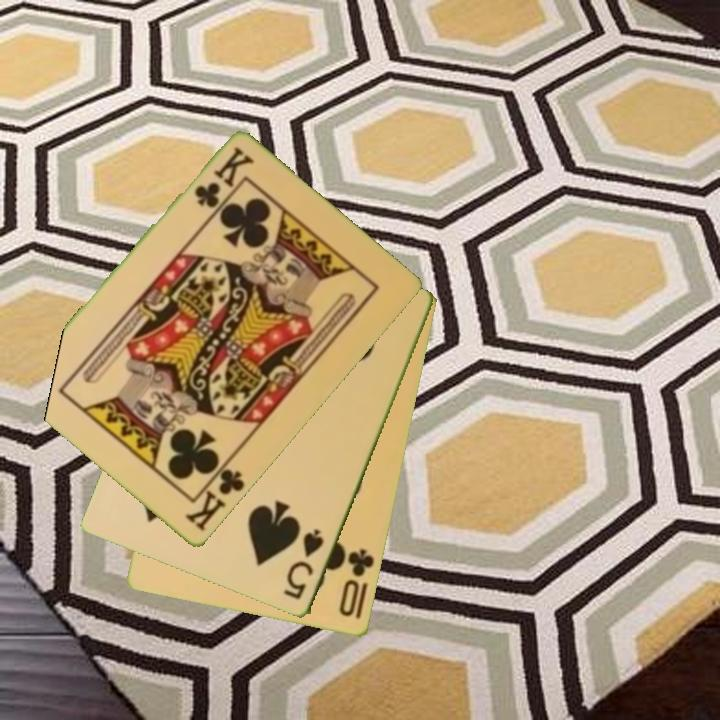10c: (336, 545, 378, 620)
5s: (280, 525, 327, 604)
Kc: (181, 456, 248, 535), (190, 143, 256, 212)
